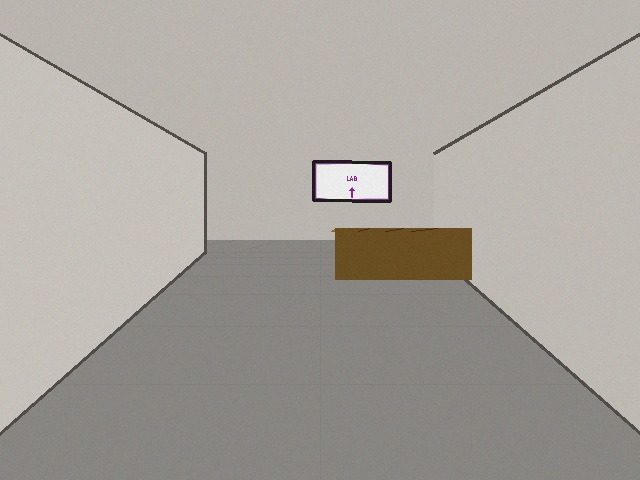directional_sign: (313, 161, 390, 201)
pallet: (331, 228, 471, 279)
